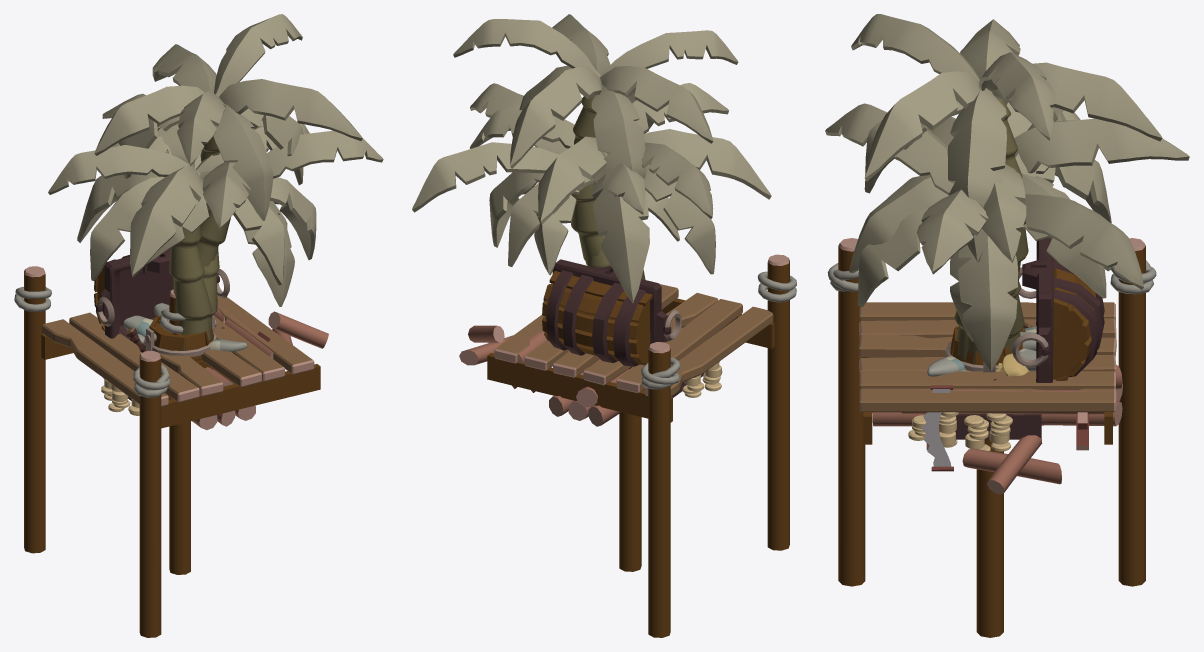
The model's file is pirate.glb.
3 views of the same model, side by side, from view 1: azimuth 30°, elevation 25°; view 2: azimuth 150°, elevation 25°; view 3: azimuth 270°, elevation 25° (orthographic). The views are drawn at different scales.
Parts seen in each view (by area): view 1: Environment_Dock, Environment_PalmTree_1, Environment_PalmTree_3, Environment_PalmTree_2, Prop_Chest_Gold, Environment_Dock_Pole, Environment_Sawmill, Prop_Barrel, Prop_Bucket_Fishes; view 2: Environment_Dock, Environment_PalmTree_1, Environment_PalmTree_3, Environment_PalmTree_2, Prop_Chest_Gold, Environment_Dock_Pole, Environment_Sawmill; view 3: Environment_Dock, Environment_PalmTree_1, Environment_PalmTree_2, Environment_PalmTree_3, Prop_Chest_Gold, Environment_Sawmill, Environment_Dock_Pole, Prop_Bucket_Fishes, Prop_Barrel.
Boxes of the visible parts, box(x1,y1,x2,y2) form: Environment_Dock: box(14, 266, 320, 637); Environment_PalmTree_1: box(94, 14, 362, 328); Environment_PalmTree_3: box(48, 93, 309, 350); Environment_PalmTree_2: box(111, 120, 383, 306); Prop_Chest_Gold: box(94, 248, 234, 415); Environment_Dock_Pole: box(159, 289, 190, 574); Environment_Sawmill: box(192, 305, 328, 429); Prop_Barrel: box(144, 315, 216, 358); Prop_Bucket_Fishes: box(123, 303, 247, 361); Environment_Dock: box(487, 254, 796, 637); Environment_PalmTree_1: box(453, 14, 738, 262); Environment_PalmTree_3: box(470, 109, 771, 302); Environment_PalmTree_2: box(412, 83, 728, 275); Prop_Chest_Gold: box(542, 259, 722, 397); Environment_Dock_Pole: box(619, 412, 641, 571); Environment_Sawmill: box(459, 325, 683, 426); Environment_Dock: box(827, 238, 1156, 586); Environment_PalmTree_1: box(851, 14, 1162, 364); Environment_PalmTree_2: box(825, 103, 1143, 371); Environment_PalmTree_3: box(849, 101, 1189, 360); Prop_Chest_Gold: box(908, 238, 1104, 451); Environment_Sawmill: box(872, 365, 1122, 494); Environment_Dock_Pole: box(976, 439, 1003, 637); Prop_Bucket_Fishes: box(927, 326, 1036, 376); Prop_Barrel: box(945, 326, 1025, 371).
Bounding box in the file's own units: 3.23 × 5.59 × 2.95.
Materials: 1 (1 with a texture image).
